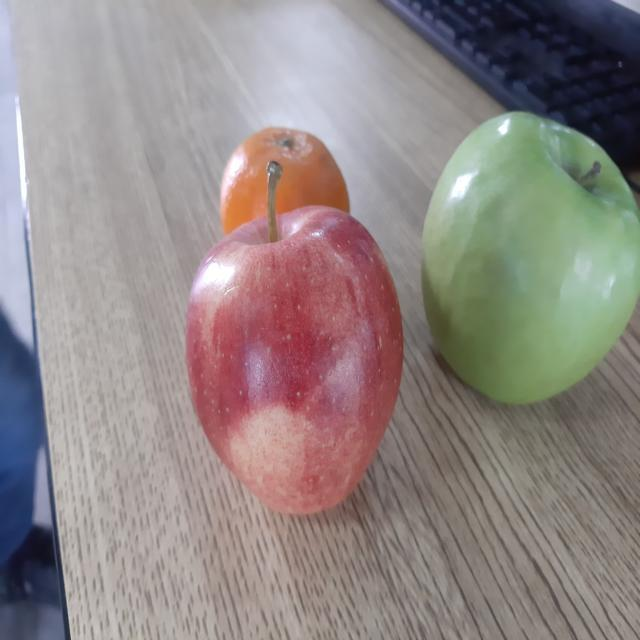Apel Gala: (182, 153, 406, 523)
Apel Granny Smith: (413, 104, 640, 412)
Jeruk Mandarin: (216, 122, 354, 235)
